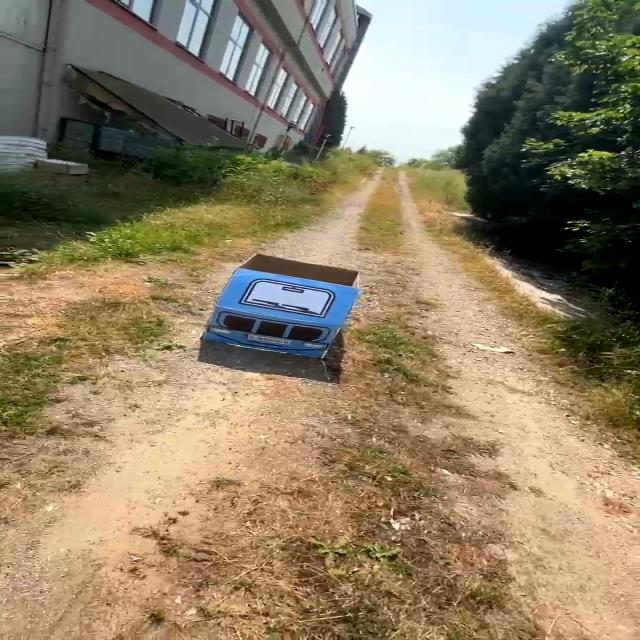blue_car: (191, 237, 370, 380)
